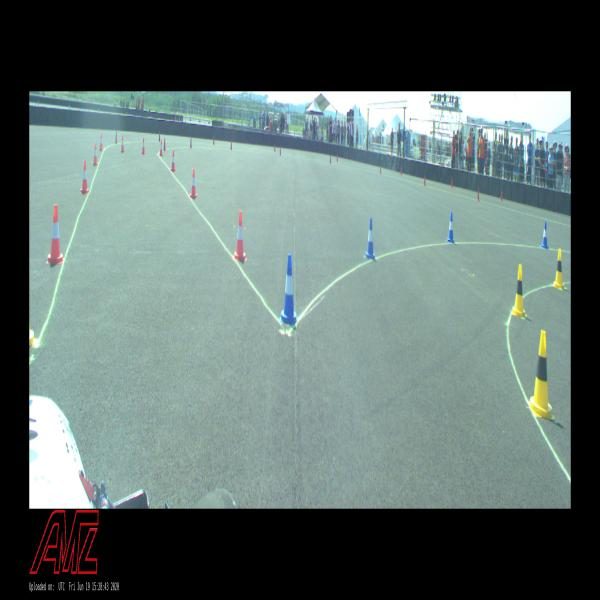blue_cone: (279, 254, 298, 324), (364, 218, 375, 259), (447, 212, 454, 242), (542, 222, 548, 248)
orange_cone: (47, 205, 63, 263), (234, 212, 247, 260), (81, 162, 88, 193), (190, 169, 197, 198), (170, 151, 176, 171), (93, 143, 98, 165), (99, 133, 103, 151), (120, 136, 124, 152), (142, 138, 145, 155), (160, 140, 163, 156)
unknown_cone: (115, 130, 118, 144), (477, 189, 480, 201), (164, 138, 166, 150), (190, 137, 192, 148), (424, 175, 426, 186), (451, 178, 453, 189), (400, 166, 402, 176), (213, 136, 215, 144), (274, 144, 276, 152), (501, 190, 502, 202), (231, 140, 232, 150), (380, 164, 381, 174), (159, 133, 160, 142), (280, 146, 281, 155), (337, 153, 338, 162), (330, 155, 331, 163)
yellow_cone: (528, 330, 554, 421), (512, 265, 526, 317), (554, 249, 564, 288)
